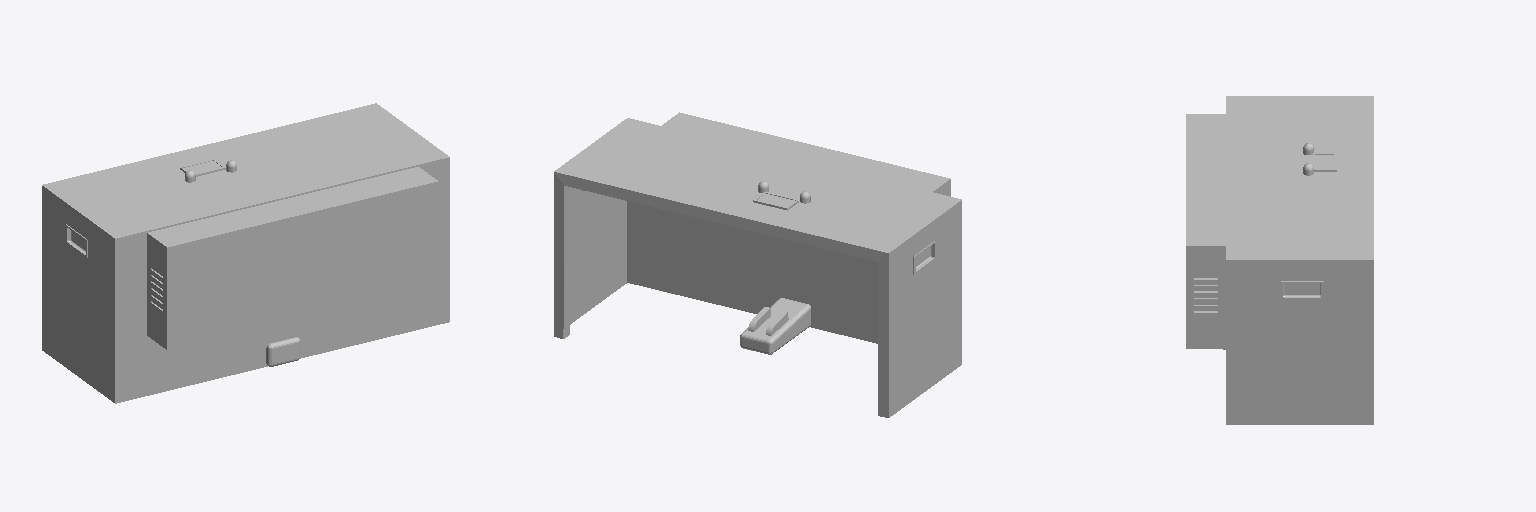
File: charger.obj
3 renders of one model, left to right at view 1: azimuth 30°, elevation 25°; view 2: azimuth 150°, elevation 25°; view 3: azimuth 270°, elevation 25°, orthographic.
Parts seen in each view (by area): view 1: 布尔.1, 布尔.4, 立方体; view 2: 布尔.1, 布尔.4, 立方体; view 3: 布尔.1, 布尔.4, 立方体.2.
Boxes of the visible parts, x1,y1,x2,y2 form: 布尔.1: [42, 103, 449, 403]; 布尔.4: [147, 167, 438, 349]; 立方体: [266, 337, 299, 366]; 布尔.1: [554, 118, 961, 417]; 布尔.4: [659, 112, 950, 282]; 立方体: [740, 298, 810, 354]; 布尔.1: [1226, 96, 1373, 424]; 布尔.4: [1186, 114, 1225, 348]; 立方体.2: [1283, 283, 1320, 296].
Bounding box in the file's own units: 55.52 × 27.49 × 26.85.